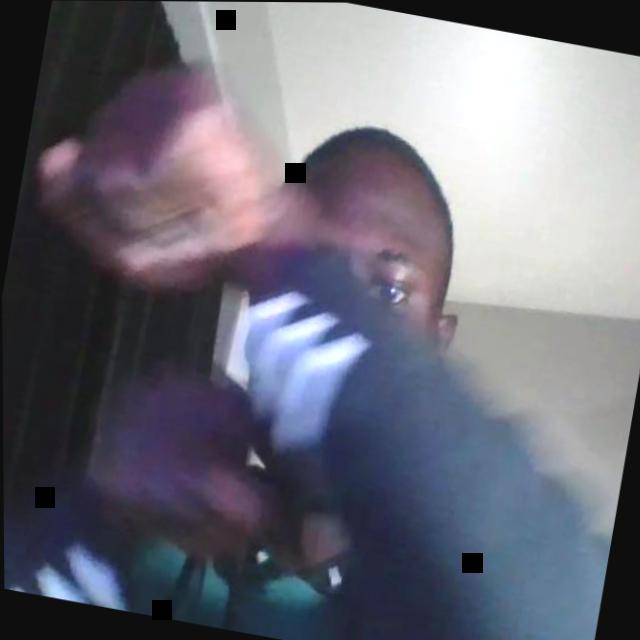NO-Mask: (268, 201, 458, 359)
